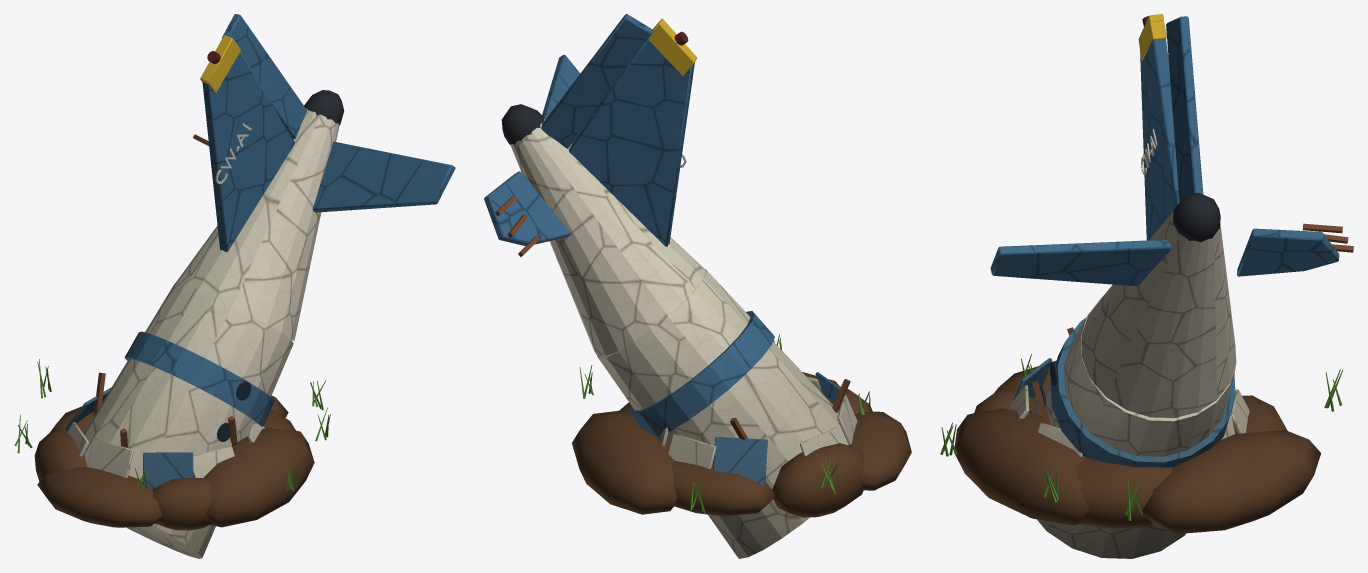
File: airplane_tail.glb
The picture shows the model from 3 angles, left to right: view 1: azimuth 30°, elevation 25°; view 2: azimuth 150°, elevation 25°; view 3: azimuth 270°, elevation 25°; orthographic projection. The views are drawn at different scales.
Parts seen in each view (by area): view 1: airplane_tail; view 2: airplane_tail; view 3: airplane_tail.
Boxes of the visible parts, x1=… form: airplane_tail: x1=14, y1=14, x2=455, y2=558; airplane_tail: x1=484, y1=14, x2=911, y2=558; airplane_tail: x1=940, y1=14, x2=1353, y2=558.
Size of the model in its own units: 5.05 by 6.59 by 4.17.
11 materials, 11 textured.
